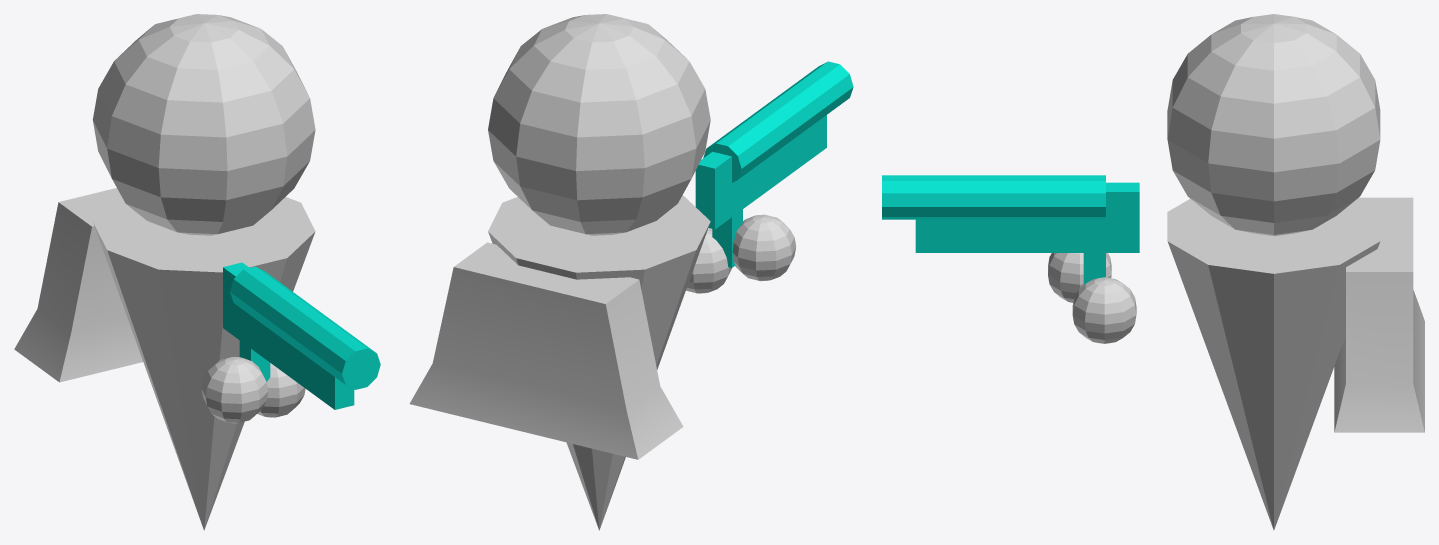
File: Player.fbx
3 renders of one model, left to right at view 1: azimuth 30°, elevation 25°; view 2: azimuth 150°, elevation 25°; view 3: azimuth 270°, elevation 25°, orthographic.
Visible parts, largest first — view 1: Dody, Gun; view 2: Dody, Gun; view 3: Dody, Gun.
Boxes of the visible parts, left/top/right/bottom form: Dody: left=14, top=14, right=315, bottom=530; Gun: left=223, top=262, right=380, bottom=409; Dody: left=409, top=14, right=796, bottom=530; Gun: left=695, top=61, right=853, bottom=267; Dody: left=1048, top=14, right=1424, bottom=530; Gun: left=882, top=175, right=1139, bottom=284.
Bounding box in the file's own units: 1.18 × 2.5 × 2.42.
